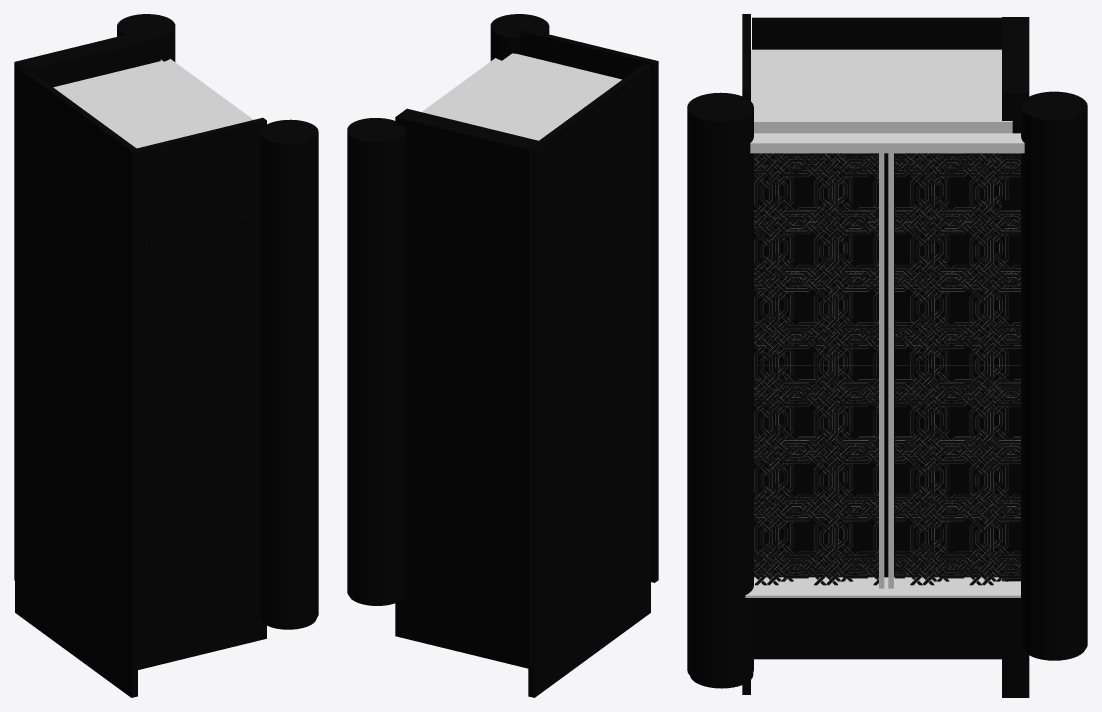
File: elevator.glb
3 renders of one model, left to right at view 1: azimuth 30°, elevation 25°; view 2: azimuth 150°, elevation 25°; view 3: azimuth 270°, elevation 25°, orthographic. The views are drawn at different scales.
Visible parts, largest first — view 1: Cube.006, Cube.007, Cube.009, Cylindre.003, Cube.012, Cube.008, Cylindre.002, Cube.010, Cube.003; view 2: Cube.008, Cube.007, Cube.009, Cylindre.002, Cube.012, Cube.006, Cylindre.003, Cube.003; view 3: Cylindre.003, Cube.007, Cube.009, Cylindre.002, Cube, Cube.002, Cube.012, Cube.008, Cube.003, Cube.001, Cube.004, Cube.005 (+1 smaller).
Boxes of the visible parts, x1,y1,x2,y2 form: Cube.006: (128, 117, 266, 671); Cube.007: (15, 65, 85, 656); Cube.009: (75, 109, 137, 697); Cylindre.003: (260, 119, 318, 626); Cube.012: (53, 59, 245, 148); Cube.008: (14, 29, 160, 580); Cylindre.002: (117, 14, 175, 61); Cube.010: (149, 213, 259, 249); Cube.003: (164, 59, 253, 121); Cube.008: (395, 108, 541, 668); Cube.007: (528, 101, 598, 697); Cube.009: (592, 63, 650, 653); Cylindre.002: (347, 118, 405, 604); Cube.012: (430, 53, 621, 140); Cube.006: (520, 28, 658, 582); Cylindre.003: (490, 14, 549, 60); Cube.003: (421, 58, 501, 113); Cylindre.003: (687, 92, 753, 684); Cube.007: (872, 17, 1001, 659); Cube.009: (752, 17, 881, 659); Cylindre.002: (1021, 91, 1087, 658); Cube: (754, 153, 878, 585); Cube.002: (895, 153, 1020, 585); Cube.012: (751, 49, 1012, 133); Cube.008: (1002, 17, 1029, 697); Cube.003: (750, 133, 1024, 153); Cube.001: (745, 577, 1020, 597); Cube.004: (879, 153, 884, 588); Cube.005: (888, 153, 893, 588).
Bounding box in the file's own units: 2.94 × 8.89 × 5.04.
Materials: 4 (1 with a texture image).
